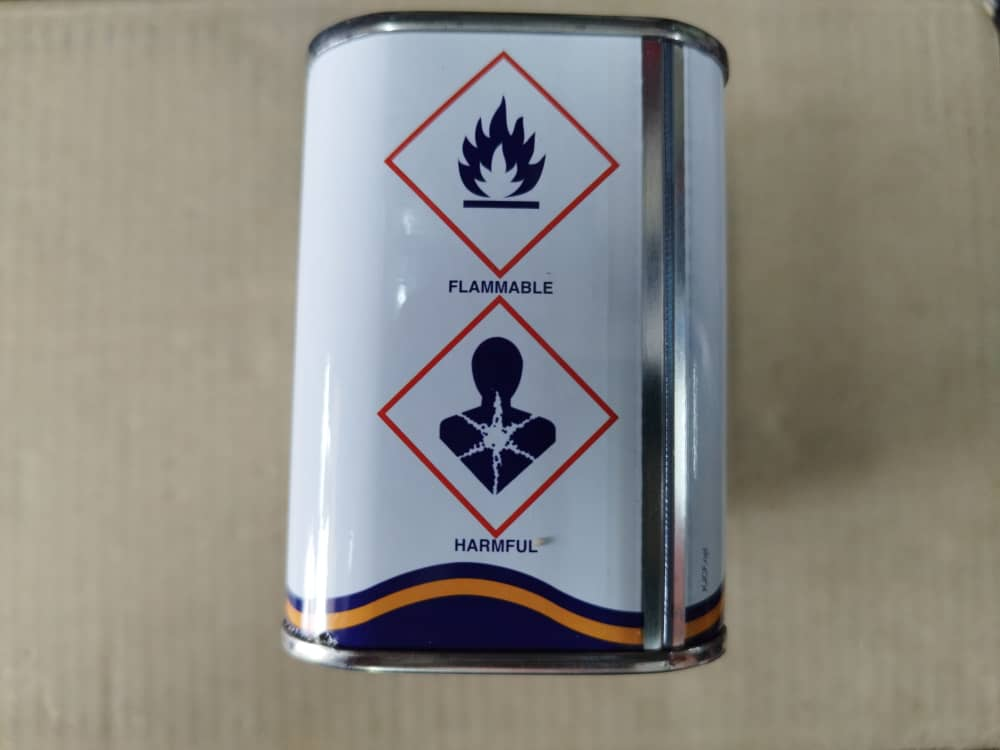sku_glue: (301, 54, 747, 702)
